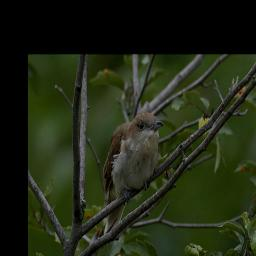Cuckoo: (101, 110, 164, 235)
